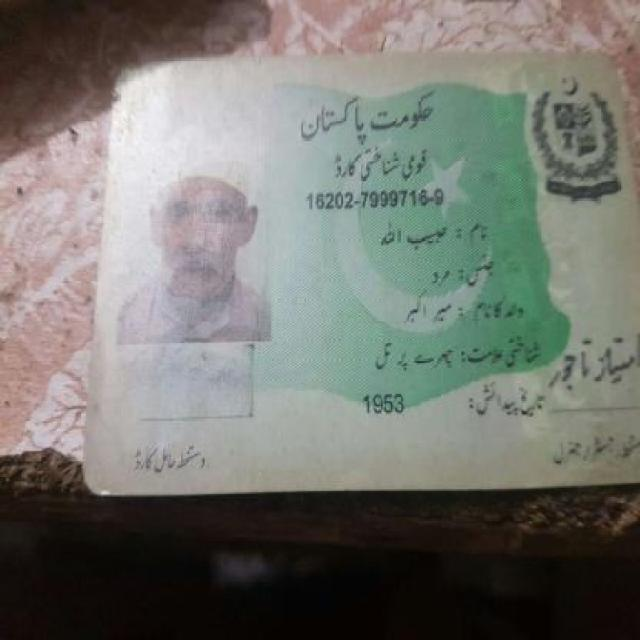Front: (86, 46, 632, 492)
